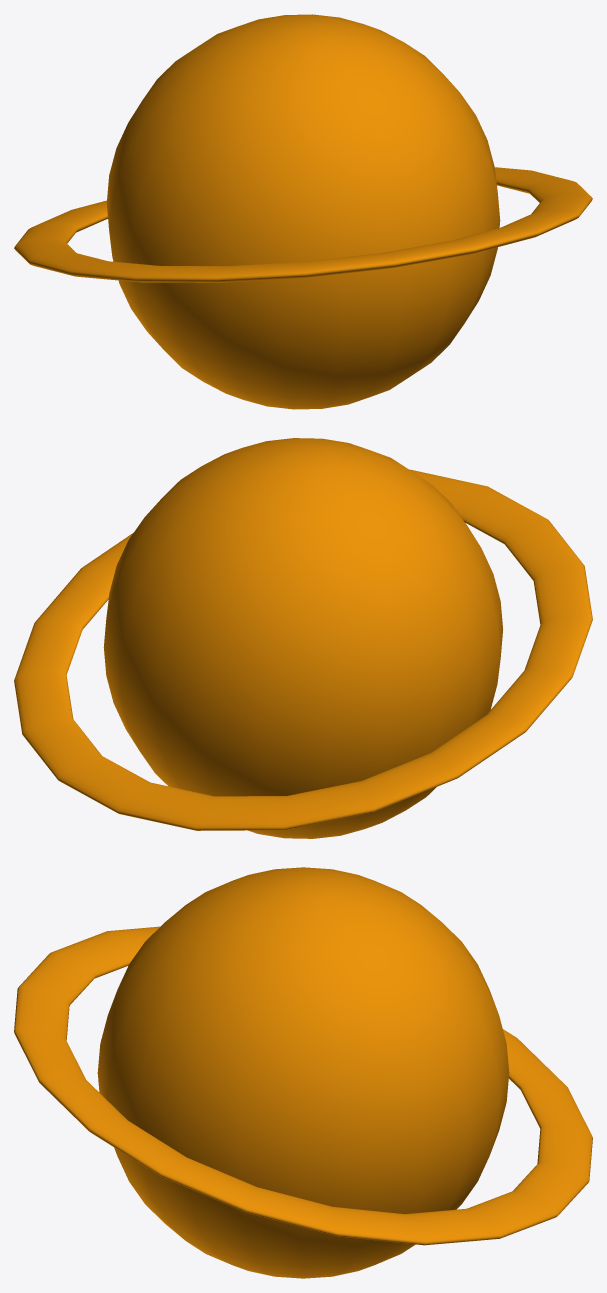
The model's file is Planet 2.fbx.
3 views of the same model, one above another, from view 1: azimuth 30°, elevation 25°; view 2: azimuth 150°, elevation 25°; view 3: azimuth 270°, elevation 25° (orthographic). The views are drawn at different scales.
Visible parts, largest first — view 1: pSphere1, pTorus1; view 2: pSphere1, pTorus1; view 3: pSphere1, pTorus1.
Boxes of the visible parts, <box> form: pSphere1: <box>106,14,500,409</box>; pTorus1: <box>14,167,592,282</box>; pSphere1: <box>103,438,503,838</box>; pTorus1: <box>14,469,592,830</box>; pSphere1: <box>97,867,509,1278</box>; pTorus1: <box>14,926,592,1245</box>.
Size of the model in its own units: 2.91 by 2 by 2.81.
